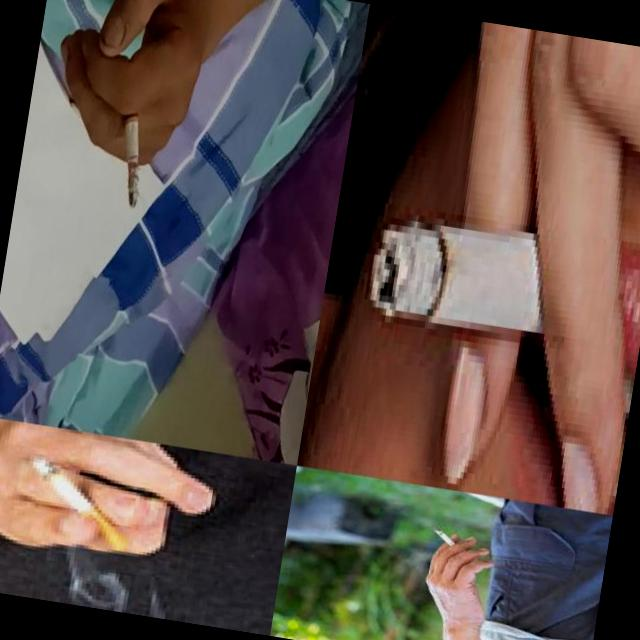cigarette: (362, 208, 625, 358), (20, 457, 140, 553), (108, 94, 156, 210), (432, 528, 462, 550)
